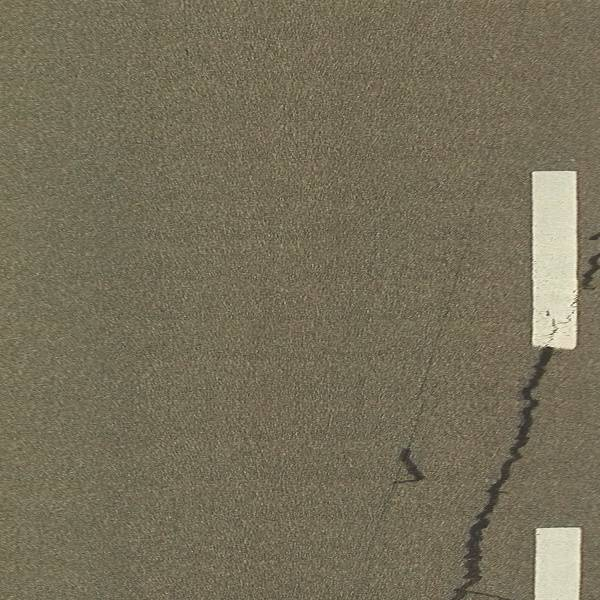road_damage: (450, 347, 559, 600), (392, 443, 431, 489)
